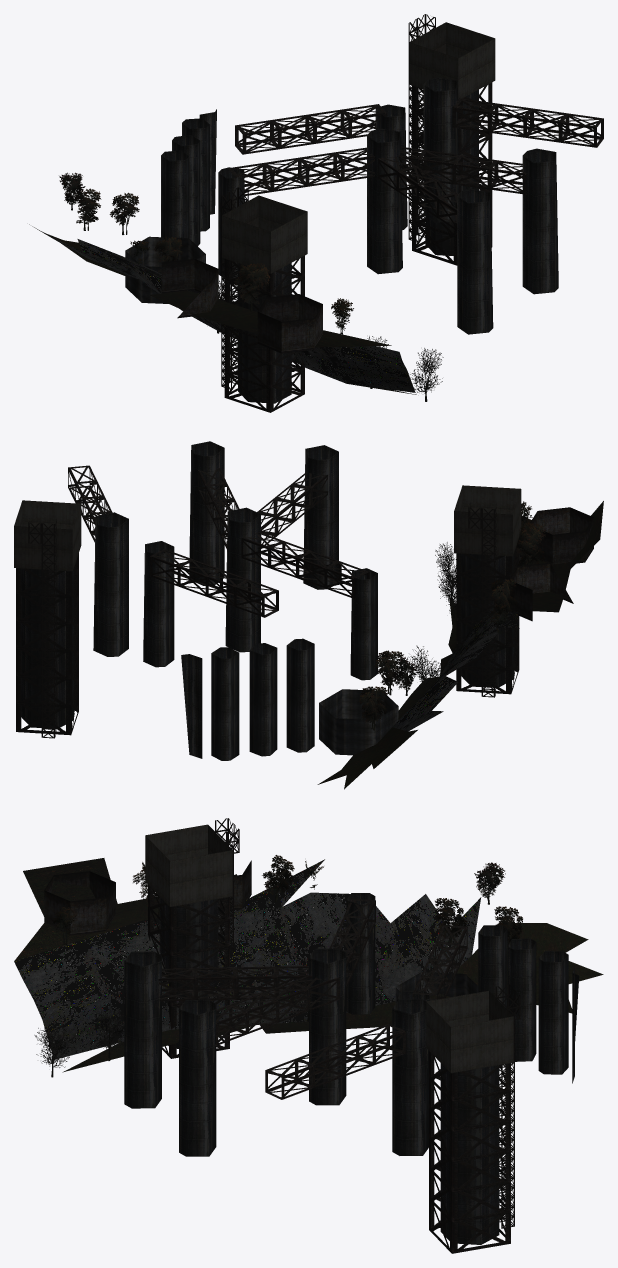
File: cell_15_-8.gltf
The picture shows the model from 3 angles, top to bottom: view 1: azimuth 30°, elevation 25°; view 2: azimuth 150°, elevation 25°; view 3: azimuth 270°, elevation 25°; orthographic projection. The views are drawn at different scales.
Parts seen in each view (by area): view 1: cell_15_-8; view 2: cell_15_-8; view 3: cell_15_-8.
Boxes of the visible parts, x1,y1,x2,y2 form: cell_15_-8: (29,14,603,412); cell_15_-8: (14,441,603,789); cell_15_-8: (14,818,603,1253).
Bounding box in the file's own units: 280 × 123 × 275.
Materials: 14 (14 with a texture image).
